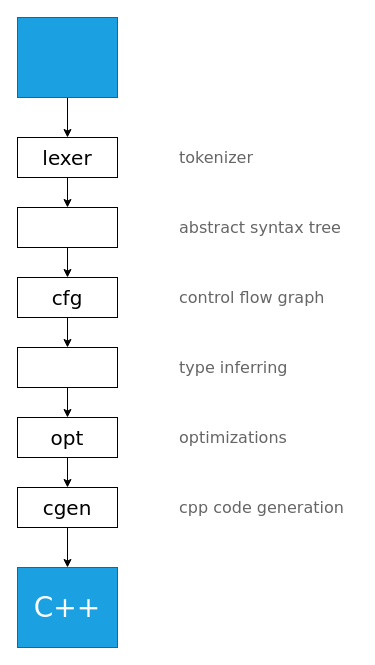
Some shapes in this 375 by 665 pixel diagram are drawn without their labels. The shapes that lost their labels are listed below. From the top down, each one's centre as x and y in pixels, then its label:
At (x=67, y=57): "PHP".
At (x=67, y=227): "AST".
At (x=67, y=367): "tinf".
